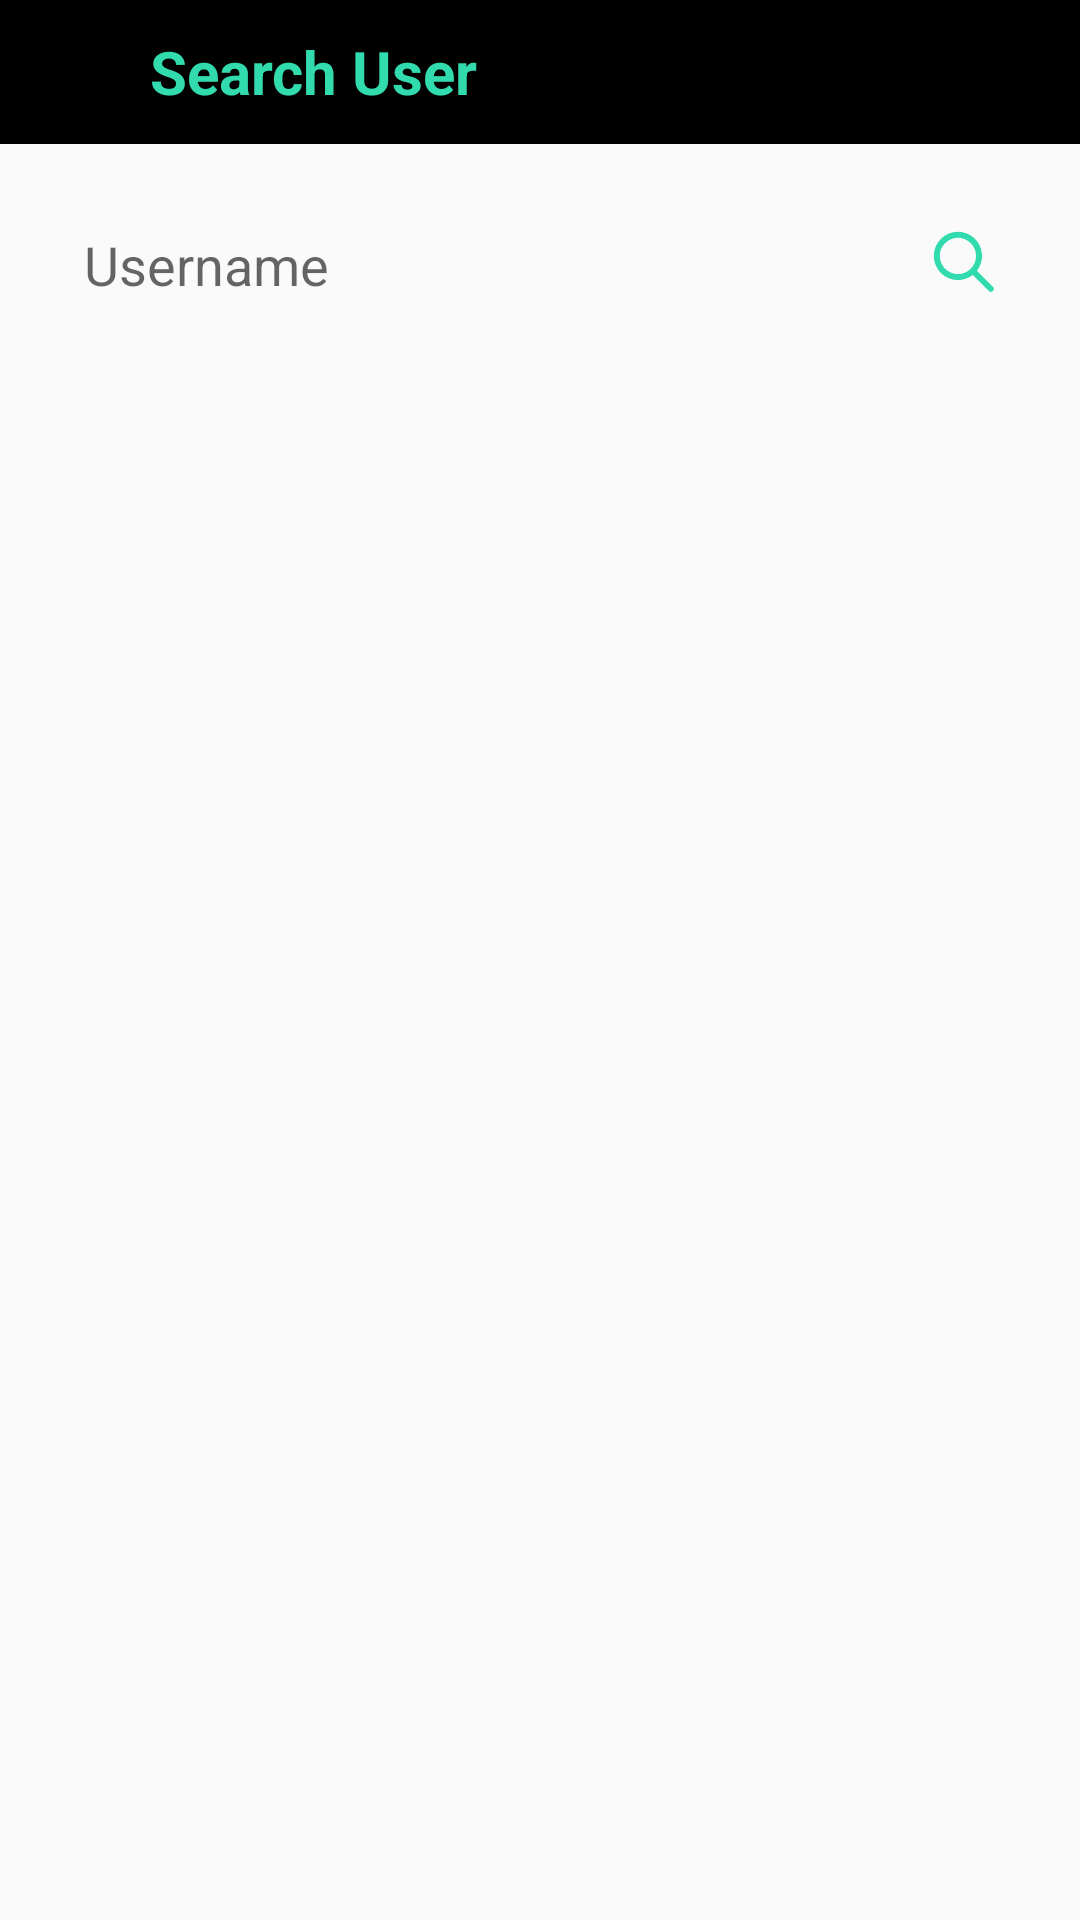

Where icons sit on this 1080 x 1920 app screen, as (x1,y1,x2,y2):
search: (933,231,994,292)
